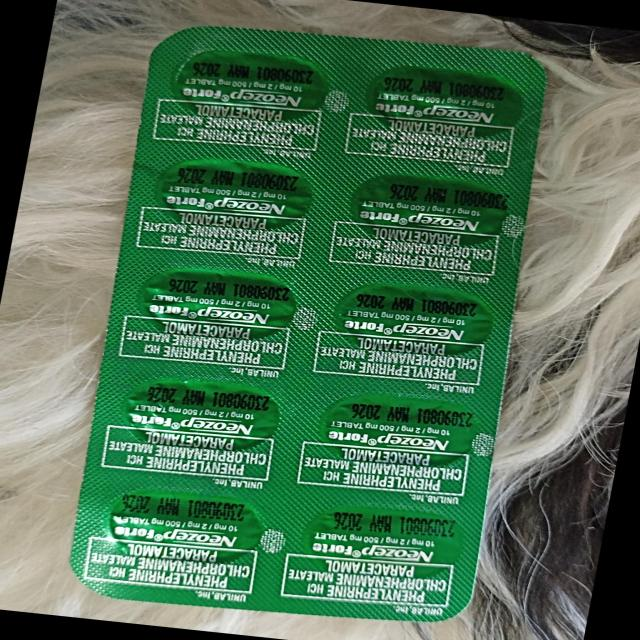Neozep_Strip: (65, 10, 564, 634)
